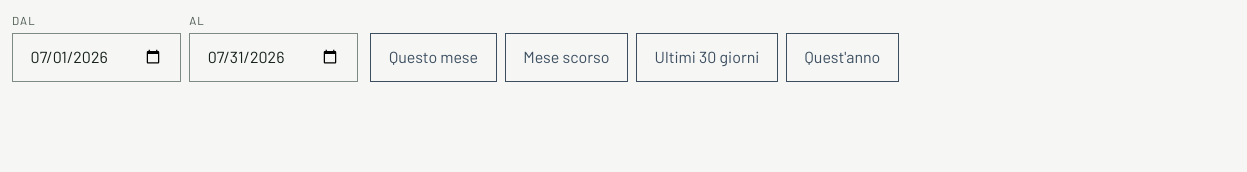
it: intervallo scelto a mano › segnala la fine precedente all inizio e non emette
Type "2026-06-01" into the 2nd date field at x=274, y=58, box [189,33,358,82]
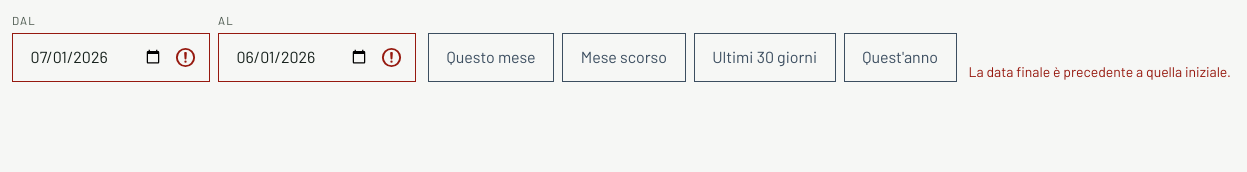
Now the text "La data finale è precedente a quella iniziale." is shown, box [968,61,1231,82]
